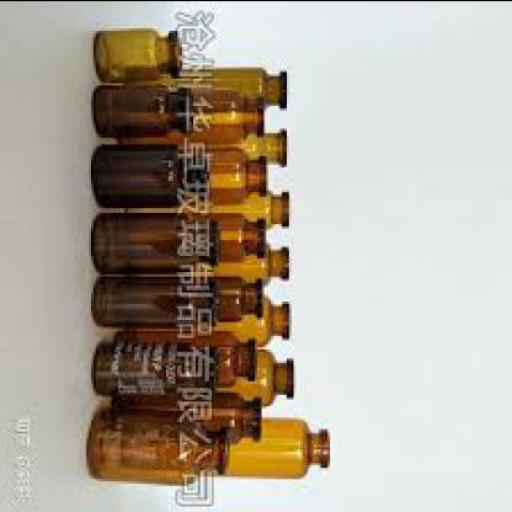glass: (84, 407, 234, 480), (118, 328, 262, 385), (116, 386, 264, 440), (94, 338, 236, 394), (95, 271, 221, 327), (94, 141, 200, 207), (93, 212, 221, 266), (223, 417, 332, 473), (96, 84, 192, 136), (94, 26, 182, 80), (180, 64, 289, 106), (204, 143, 271, 205), (200, 87, 266, 143), (222, 296, 292, 344), (212, 184, 289, 226), (237, 348, 293, 402), (222, 246, 292, 282), (214, 208, 266, 256), (216, 274, 264, 316), (248, 127, 290, 162)
